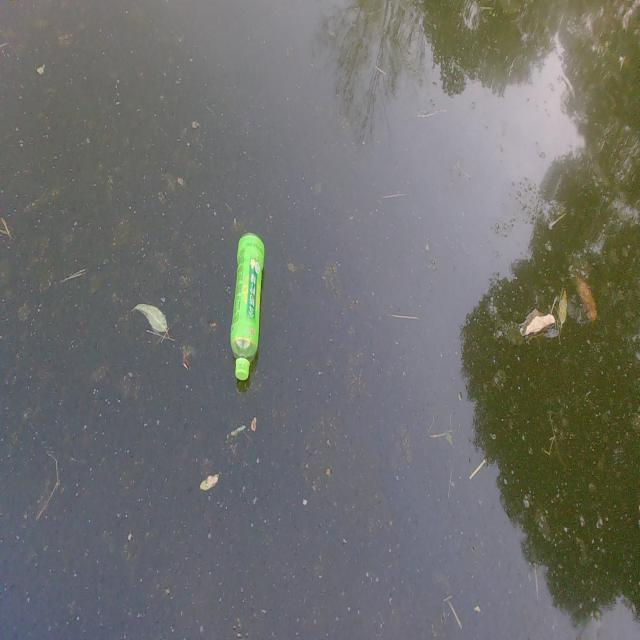bottle: (206, 225, 288, 392)
